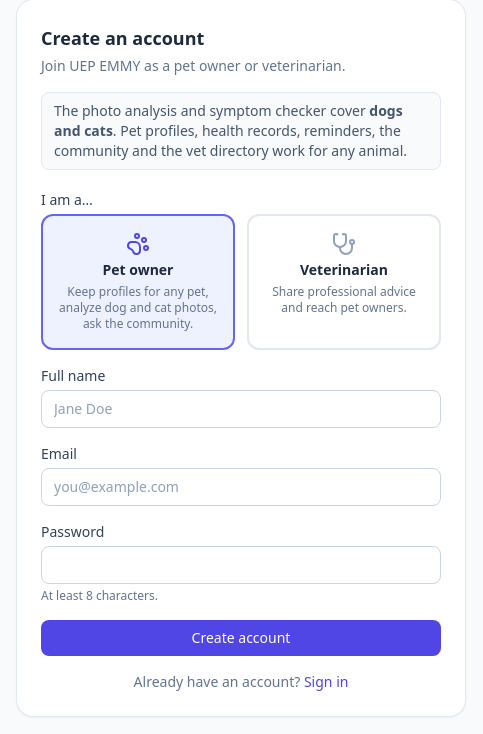
Test: signing up no longer signs you in › offers a way to sign in and a way to get the link again
This screenshot has width=483, height=734.
In the field labelled "Full name": (241, 409) [41, 390, 441, 428], type "Alex"
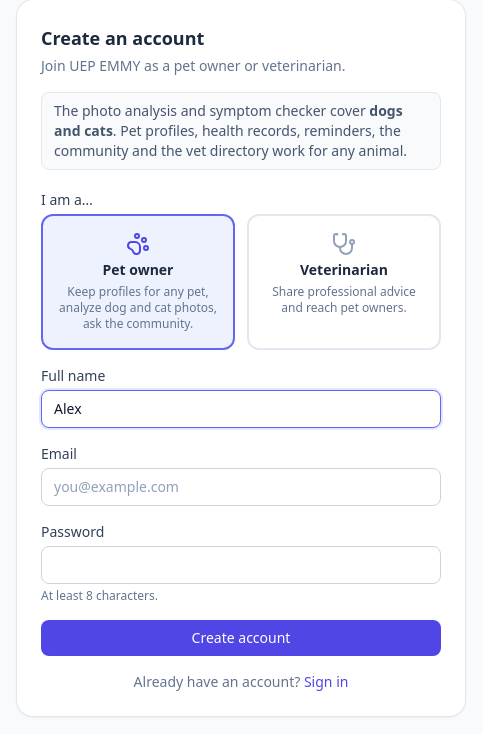
In the field labelled "Email": (241, 487) [41, 468, 441, 506], type "alex@example.com"
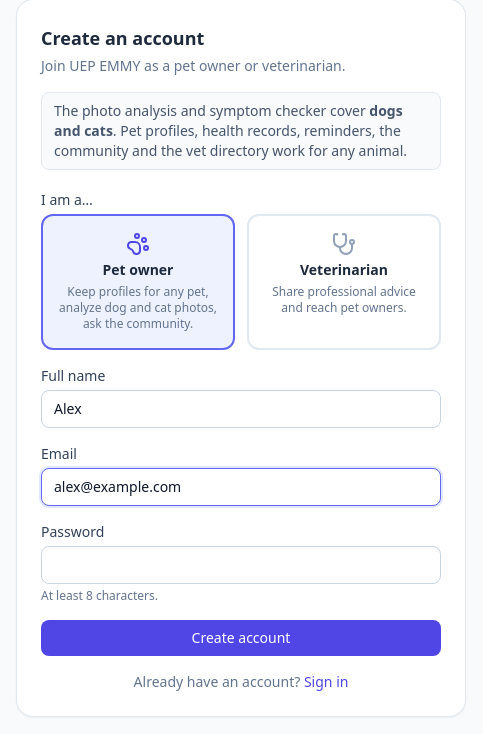
In the password field labelled "Password": (241, 565) [41, 546, 441, 584], type "hunter2hunter2"
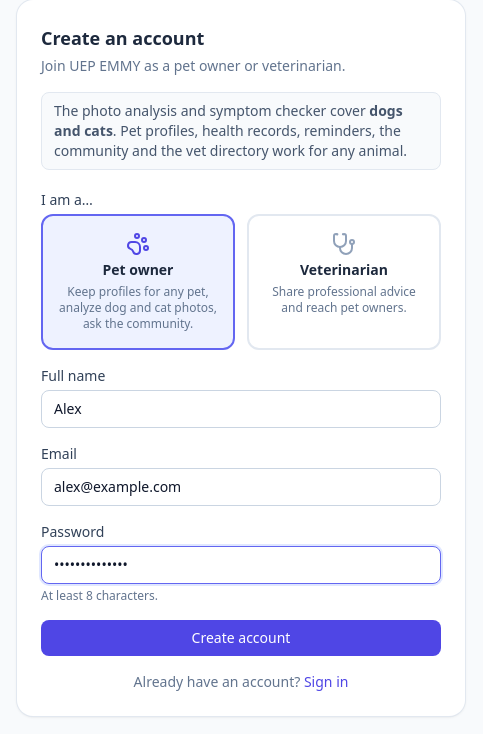
Click the button "Create account": (241, 638) [41, 620, 441, 656]
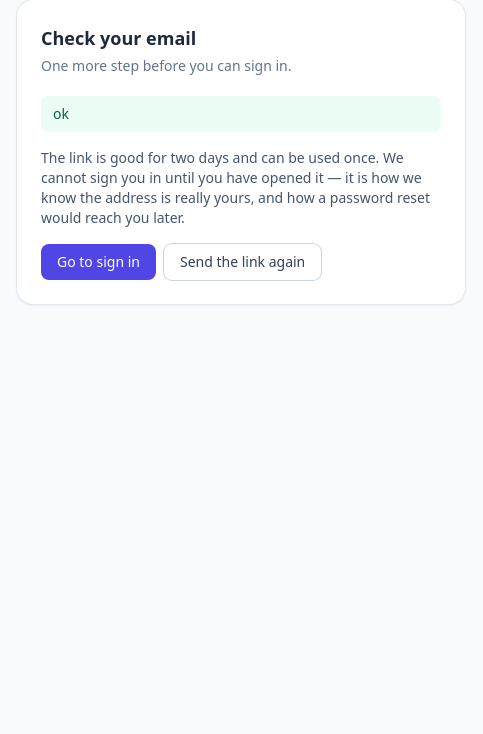
Now the heading "Check your email" is shown, box [41, 26, 196, 50]
